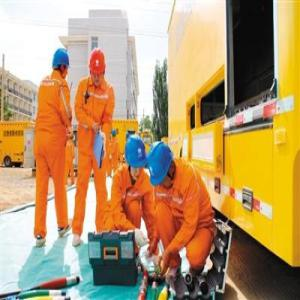blue: (147, 139, 176, 190), (123, 134, 147, 179), (52, 45, 71, 80)
yellow: (88, 47, 107, 88)
